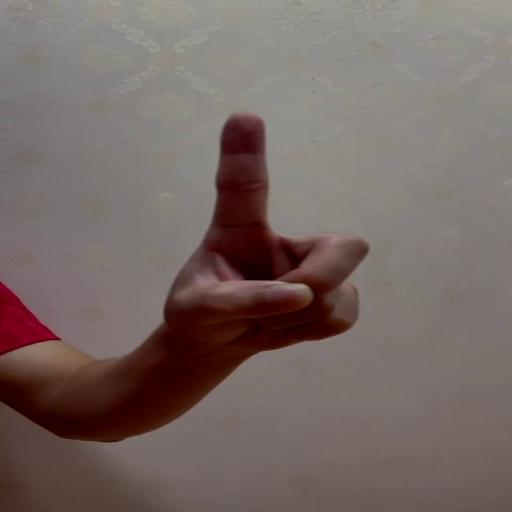point: (208, 109, 371, 347)
